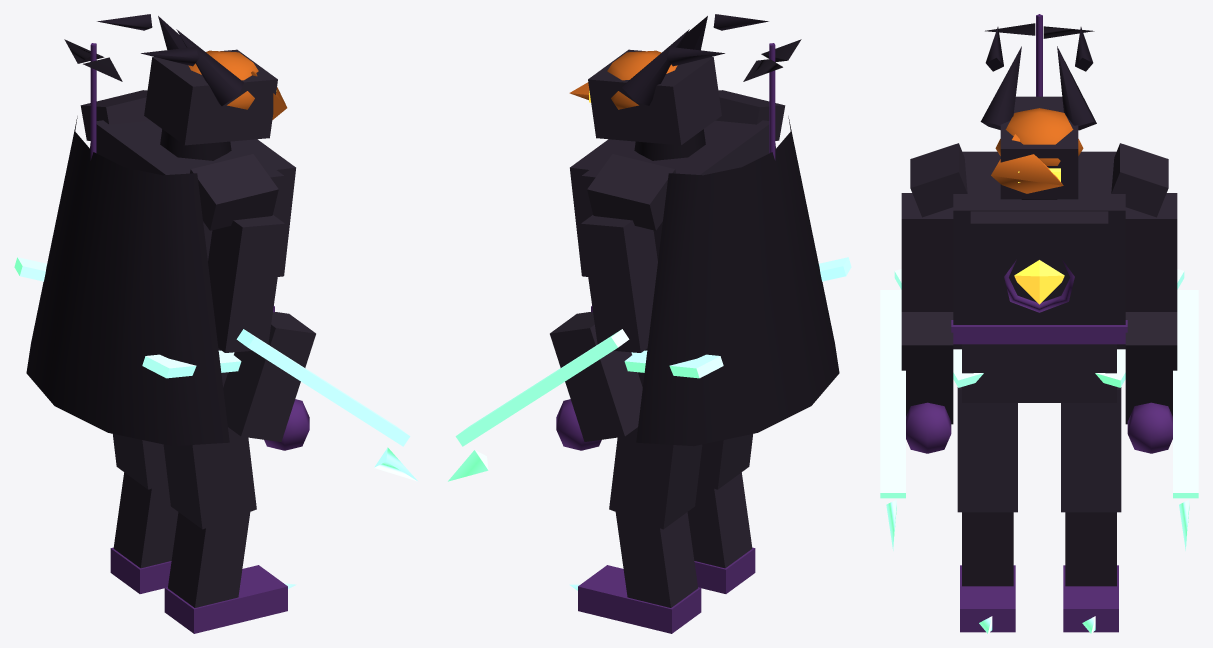
File: enemy_boss_hunter.glb
The picture shows the model from 3 angles, left to right: view 1: azimuth 30°, elevation 25°; view 2: azimuth 150°, elevation 25°; view 3: azimuth 270°, elevation 25°; orthographic projection. The views are drawn at different scales.
Parts seen in each view (by area): view 1: cape, arm_l_upper, head, arm_l_lower, thigh_l, shin_l, torso, pauldron_l, shin_r, foot_l, arm_l_blade, thigh_r (+12 smaller); view 2: cape, arm_r_upper, head, arm_r_lower, thigh_r, shin_r, torso, pauldron_r, shin_l, foot_r, arm_r_blade, thigh_l (+12 smaller); view 3: chest_plate, torso, hips, thigh_l, thigh_r, arm_l_upper, arm_r_upper, arm_l_blade, arm_r_blade, arm_l_lower, arm_r_lower, shin_l (+20 smaller).
Part boxes in pixels (x1,y1,x2,y2): cape: (26, 116, 229, 446); arm_l_upper: (208, 215, 284, 352); head: (144, 49, 277, 145); arm_l_lower: (223, 312, 315, 441); thigh_l: (163, 427, 256, 529); shin_l: (168, 512, 250, 607); torso: (90, 120, 284, 260); pauldron_l: (190, 154, 278, 230); shin_r: (113, 472, 178, 568); foot_l: (164, 565, 287, 633); arm_l_blade: (236, 329, 410, 446); thigh_r: (113, 434, 167, 489); cape: (636, 116, 839, 446); arm_r_upper: (581, 215, 657, 352); head: (588, 49, 721, 145); arm_r_lower: (550, 312, 642, 441); thigh_r: (609, 427, 702, 529); shin_r: (615, 512, 697, 607); torso: (581, 120, 775, 260); pauldron_r: (587, 154, 675, 230); shin_l: (687, 472, 752, 568); foot_r: (578, 565, 701, 633); arm_r_blade: (455, 329, 629, 446); thigh_l: (698, 434, 752, 489); chest_plate: (970, 211, 1108, 318); torso: (953, 151, 1125, 349); hips: (962, 344, 1116, 402); thigh_l: (957, 387, 1017, 512); thigh_r: (1061, 387, 1121, 512); arm_l_upper: (901, 193, 953, 311); arm_r_upper: (1125, 193, 1177, 311); arm_l_blade: (880, 290, 905, 498); arm_r_blade: (1173, 290, 1198, 498); arm_l_lower: (901, 312, 953, 424); arm_r_lower: (1125, 312, 1177, 424); shin_l: (962, 512, 1013, 586).
Size of the model in its own units: 0.3669 by 0.7052 by 0.37.
